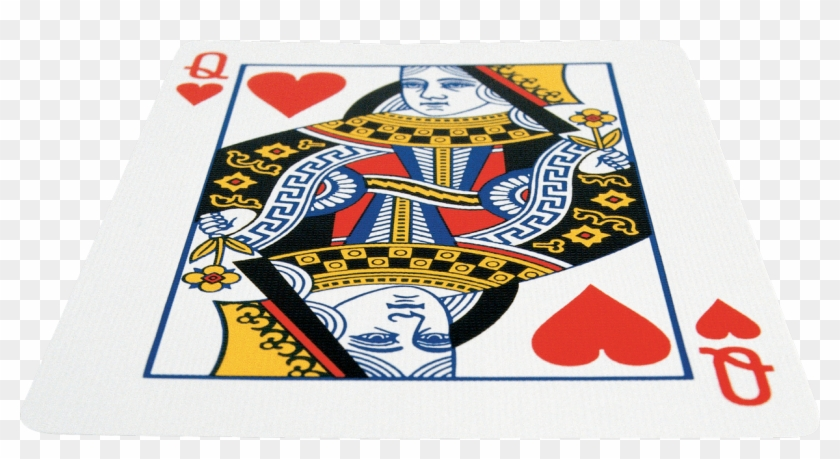queen of hearts: (18, 42, 816, 431)
